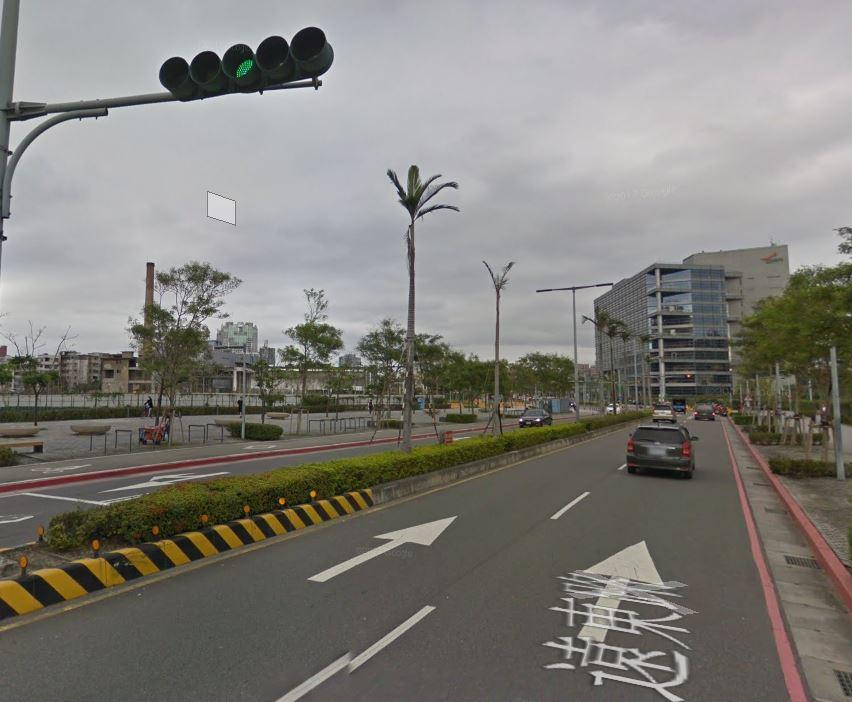green_traffic_light: (154, 36, 341, 98)
